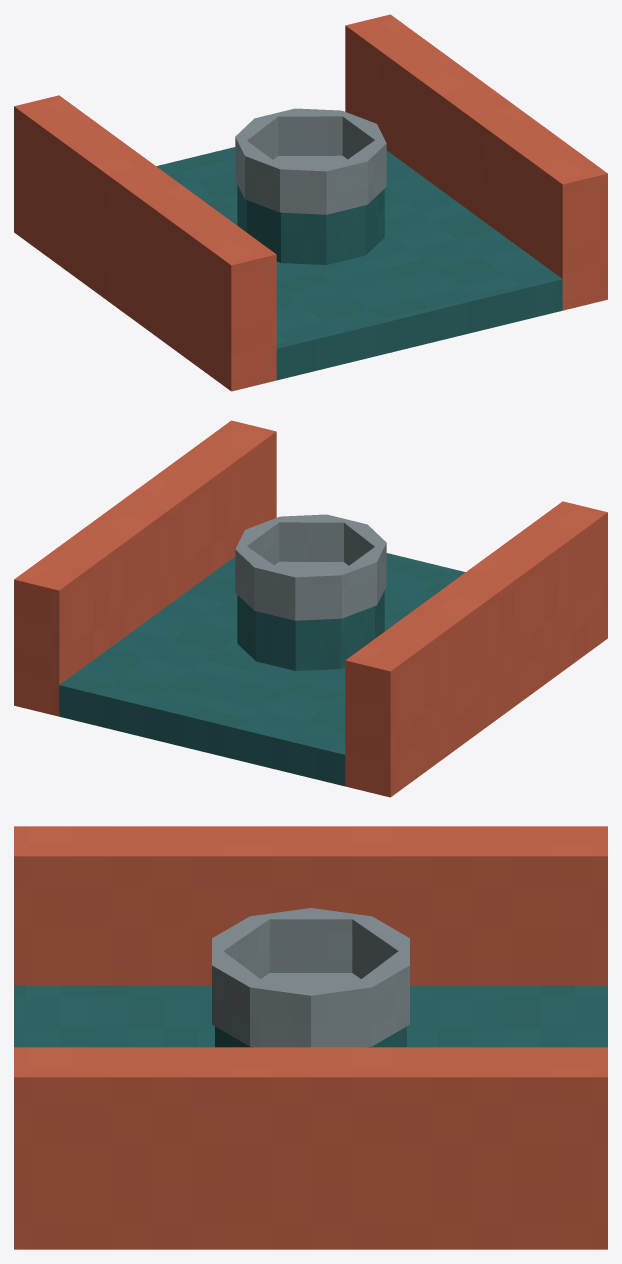
Rendered from cradle-lod-2.glb.
3 renders of one model, top to bottom at view 1: azimuth 30°, elevation 25°; view 2: azimuth 150°, elevation 25°; view 3: azimuth 270°, elevation 25°, orthographic. The views are drawn at different scales.
Parts seen in each view (by area): view 1: cradle_lod_2; view 2: cradle_lod_2; view 3: cradle_lod_2.
Boxes of the visible parts, <box> form: cradle_lod_2: <box>14,14,607,391</box>; cradle_lod_2: <box>14,420,607,797</box>; cradle_lod_2: <box>14,826,607,1249</box>.
Size of the model in its own units: 2 by 0.64 by 2.
Materials: 1 (1 with a texture image).
